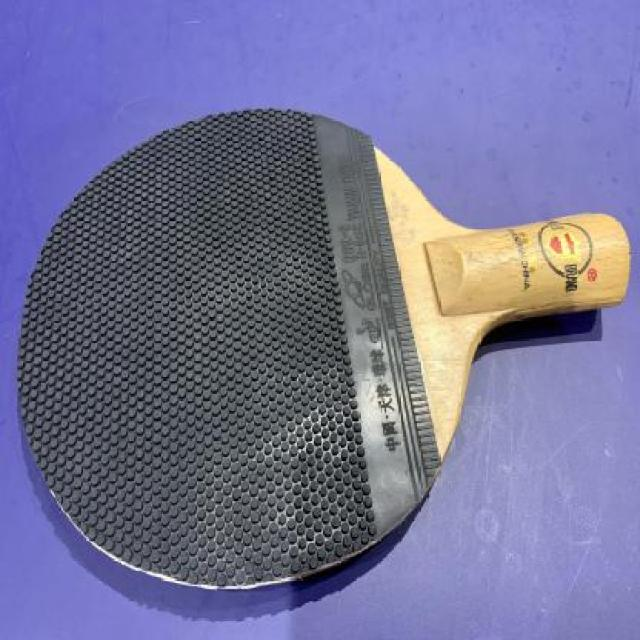table_tennis_racket: (17, 113, 440, 605)
